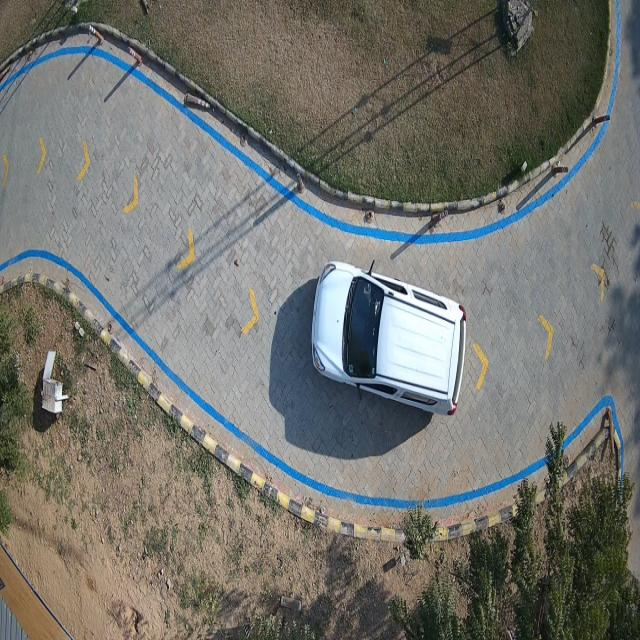car: (312, 260, 466, 417)
